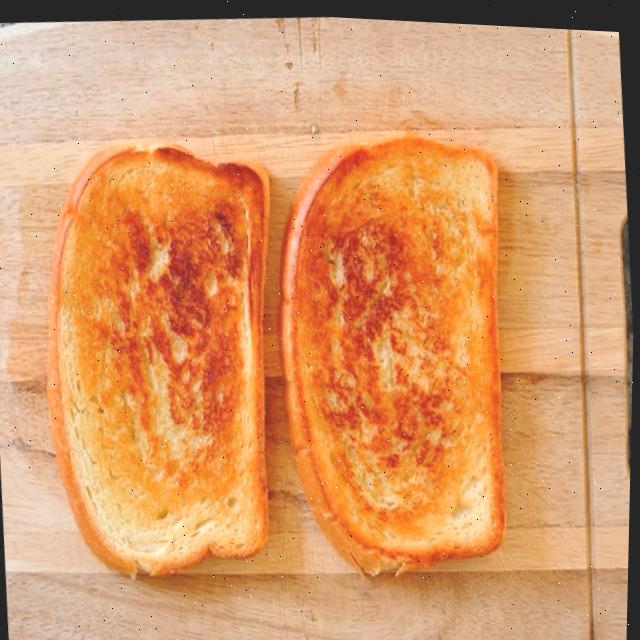面包点心: (0, 58, 522, 601)
